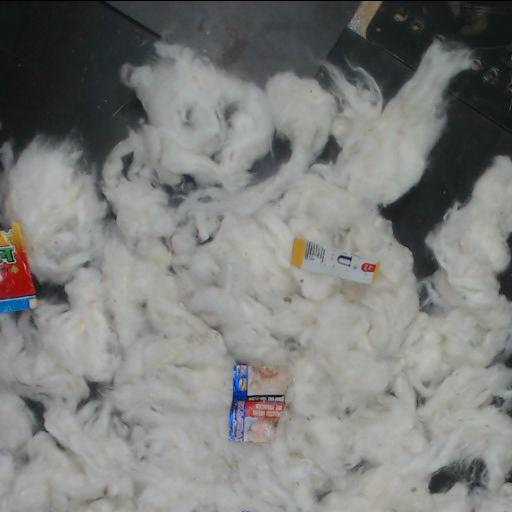conveyor belt: (0, 1, 511, 277), (429, 462, 480, 492), (252, 138, 286, 177), (313, 136, 340, 163), (35, 281, 65, 302), (23, 398, 43, 429), (498, 266, 511, 297)
cotton: (0, 42, 511, 512)
packet: (229, 362, 287, 440), (291, 237, 379, 283), (0, 224, 37, 312)
